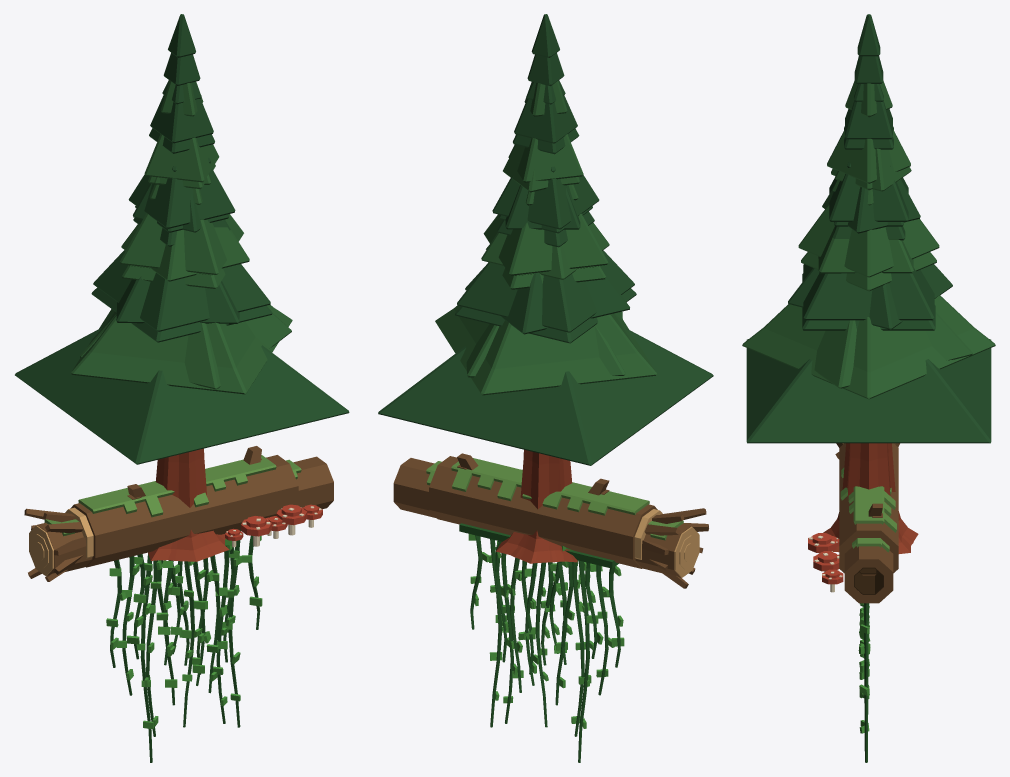
File: w2_forest.fbx
3 renders of one model, left to right at view 1: azimuth 30°, elevation 25°; view 2: azimuth 150°, elevation 25°; view 3: azimuth 270°, elevation 25°, orthographic.
Parts seen in each view (by area): view 1: SpruceC.Needles, BigLogB.Bark, SpruceA.Needles, SpruceA.NeedlesLight, SpruceC.NeedlesLight, SpruceD.NeedlesLight, VineHedgeB.Vines, SpruceD.Needles, BigLogB.Moss, VineHedgeB.VineLeaves, VineHedgeA.Vines, BigLogA.Bark (+9 smaller); view 2: SpruceC.Needles, BigLogB.Bark, SpruceA.NeedlesLight, SpruceA.Needles, SpruceC.NeedlesLight, VineHedgeB.Vines, SpruceD.Needles, VineHedgeA.Vines, BigLogB.Moss, SpruceD.NeedlesLight, BigLogA.Bark, VineHedgeB.VineLeaves (+8 smaller); view 3: SpruceC.Needles, SpruceA.NeedlesLight, SpruceA.Needles, SpruceC.NeedlesLight, SpruceD.NeedlesLight, SpruceD.Needles, BigLogB.Bark, BigLogA.Bark, SpruceB.Trunk, SpruceB.Needles, BigLogB.Moss, SpruceB.NeedlesLight (+7 smaller).
Boxes of the visible parts, <box> form: SpruceC.Needles: <box>15,158,349,464</box>; BigLogB.Bark: <box>24,446,298,581</box>; SpruceA.Needles: <box>93,80,270,331</box>; SpruceA.NeedlesLight: <box>90,134,273,368</box>; SpruceC.NeedlesLight: <box>71,184,292,394</box>; SpruceD.NeedlesLight: <box>80,173,291,389</box>; VineHedgeB.Vines: <box>110,530,260,762</box>; SpruceD.Needles: <box>116,128,239,323</box>; BigLogB.Moss: <box>78,455,276,517</box>; VineHedgeB.VineLeaves: <box>106,536,262,729</box>; VineHedgeA.Vines: <box>133,547,234,736</box>; BigLogA.Bark: <box>37,456,333,575</box>; SpruceC.Needles: <box>378,162,713,465</box>; BigLogB.Bark: <box>429,453,708,588</box>; SpruceA.NeedlesLight: <box>453,134,638,369</box>; SpruceA.Needles: <box>457,80,634,332</box>; SpruceC.NeedlesLight: <box>435,184,656,395</box>; VineHedgeB.Vines: <box>459,523,620,762</box>; SpruceD.Needles: <box>465,128,629,334</box>; VineHedgeA.Vines: <box>484,531,597,736</box>; BigLogB.Moss: <box>451,458,649,515</box>; SpruceD.NeedlesLight: <box>466,145,625,377</box>; BigLogA.Bark: <box>393,458,691,577</box>; VineHedgeB.VineLeaves: <box>468,534,624,728</box>; SpruceC.Needles: <box>746,162,991,443</box>; SpruceA.NeedlesLight: <box>764,129,973,372</box>; SpruceA.Needles: <box>803,84,934,320</box>; SpruceC.NeedlesLight: <box>742,180,995,399</box>; SpruceD.NeedlesLight: <box>814,148,972,388</box>; SpruceD.Needles: <box>788,126,952,329</box>; BigLogB.Bark: <box>835,443,899,575</box>; BigLogA.Bark: <box>844,513,893,603</box>; SpruceB.Trunk: <box>823,443,910,553</box>; SpruceB.Needles: <box>834,14,903,226</box>; BigLogB.Moss: <box>840,467,896,532</box>; SpruceB.NeedlesLight: <box>831,81,892,190</box>.
Size of the model in its own units: 22.6 by 55.52 by 17.37.
